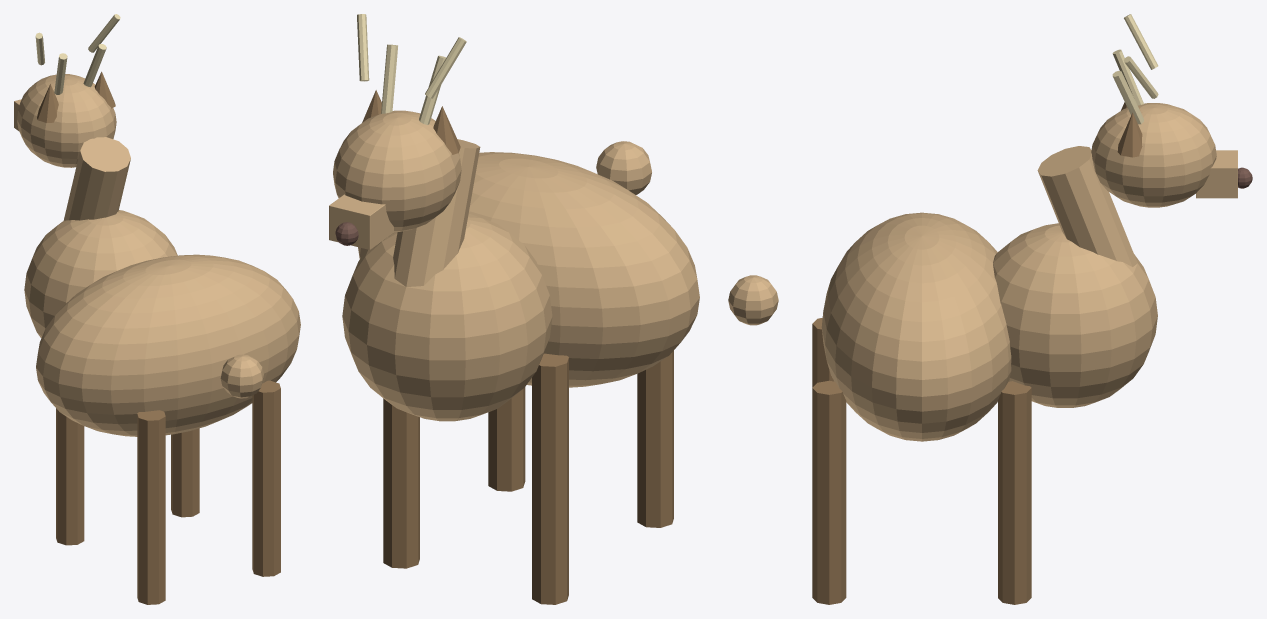
The model's file is deer.glb.
The picture shows the model from 3 angles, left to right: view 1: azimuth 30°, elevation 25°; view 2: azimuth 150°, elevation 25°; view 3: azimuth 270°, elevation 25°; orthographic projection. The views are drawn at different scales.
Visible parts, largest first — view 1: deer; view 2: deer; view 3: deer.
Part boxes in pixels (x1=…): deer: x1=14, y1=14, x2=300, y2=604; deer: x1=329, y1=14, x2=699, y2=604; deer: x1=728, y1=14, x2=1252, y2=604.
Size of the model in its own units: 0.784 by 1.39 by 1.25.
